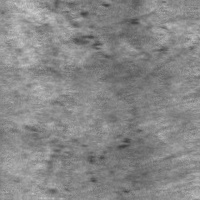rolled-in_scale: (20, 121, 138, 188), (37, 0, 150, 54)
